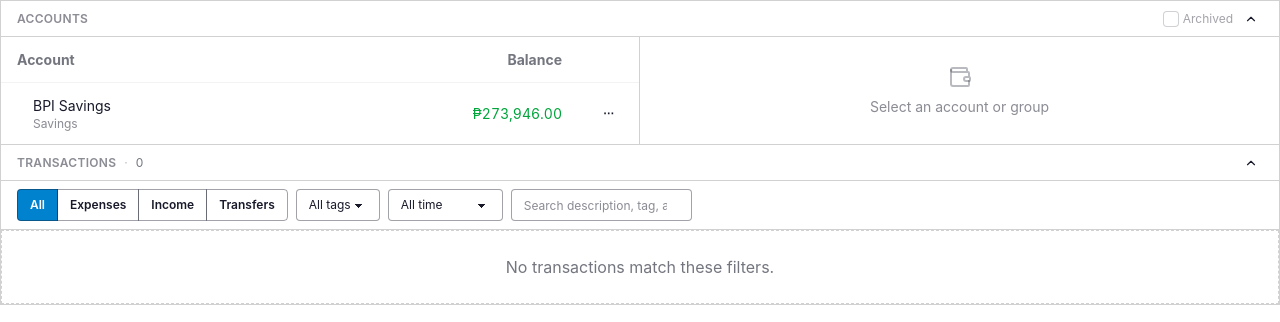
AccountsPanel › folds accounts section to a strip when chevron clicked
Click the button named "fold accounts" at (1251, 18), box [1239,6,1263,30]
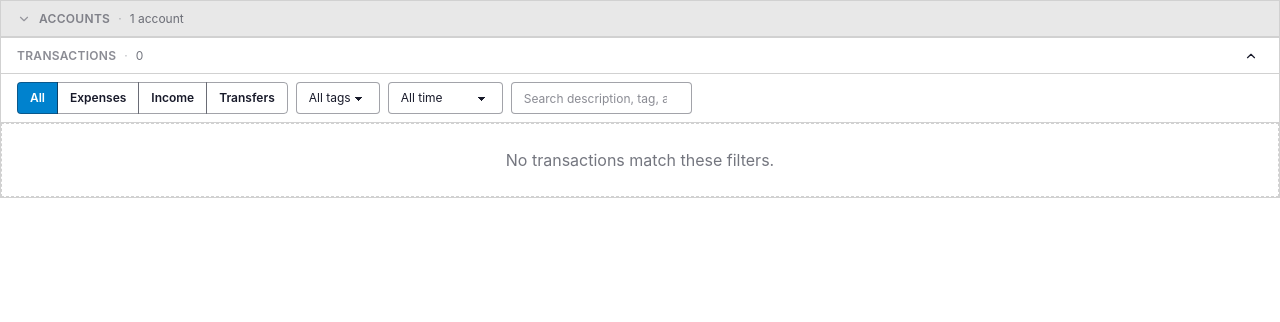
Expected: the text "1 account" is shown, [130,10,184,26]
